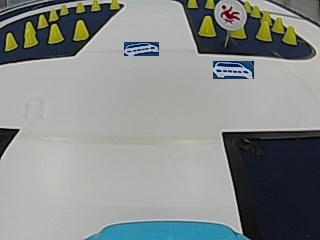cone: (198, 15, 215, 37), (256, 18, 271, 42), (73, 19, 88, 40), (24, 21, 36, 47), (48, 24, 62, 44), (282, 25, 296, 45), (4, 32, 17, 51), (272, 16, 284, 33), (231, 26, 246, 39), (37, 13, 47, 29), (59, 3, 69, 16), (91, 0, 101, 12), (75, 2, 85, 13), (49, 9, 58, 21), (187, 0, 198, 8), (110, 0, 119, 9)
tumble: (216, 2, 245, 27)
